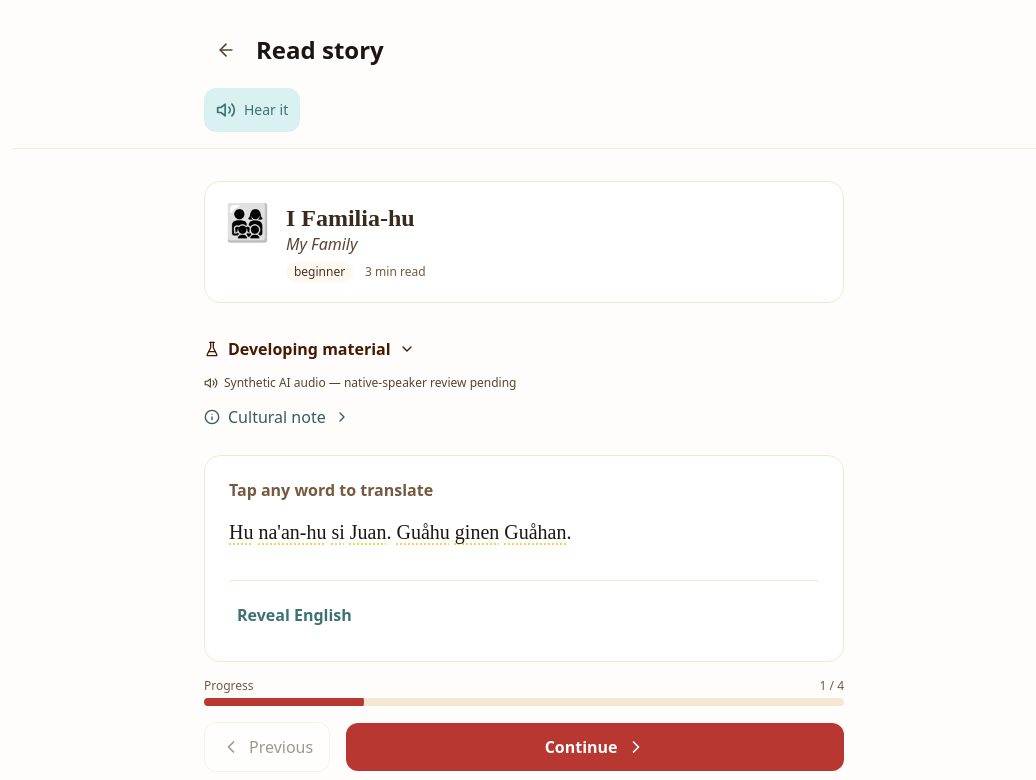
Test case: topic surface navigation › rejects unrelated valid topic context for stories and scenarios
Later steps or results of the test are not shown.
Click the link named "Back to stories" at (226, 50), box [216,40,236,60]
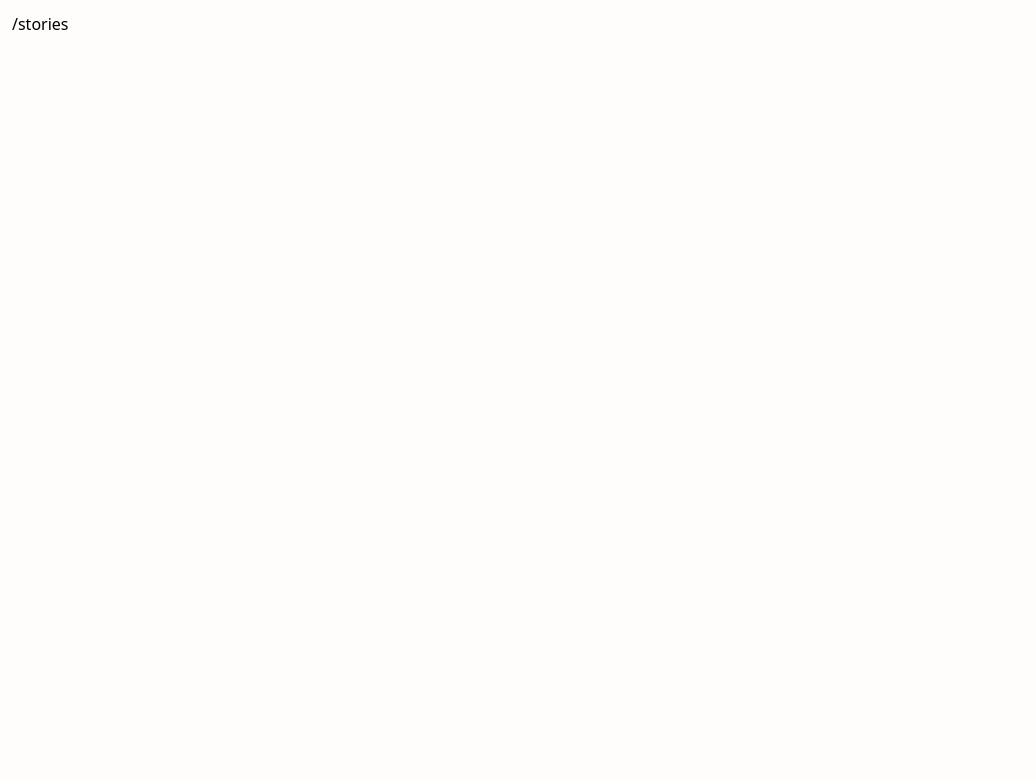
Expected: the text with test id "current-location" reads "/stories", [12,13,68,35]
